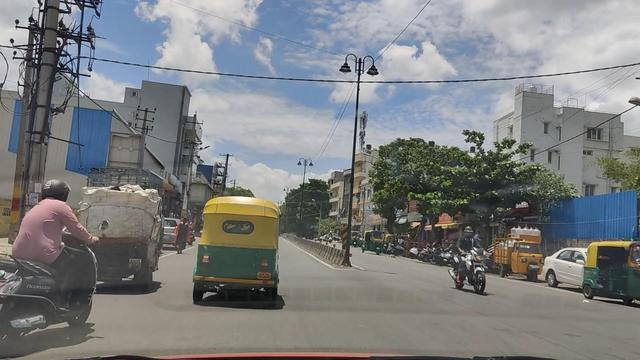LMV: (13, 187, 100, 339), (200, 199, 285, 311), (81, 191, 164, 295)
